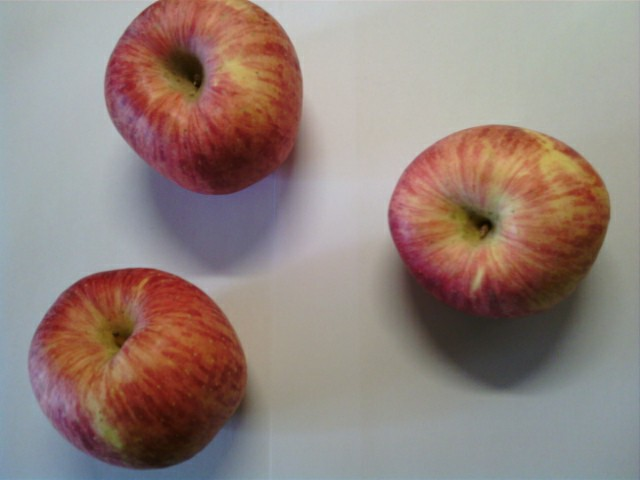normal_apple: (385, 124, 615, 327), (28, 267, 247, 471), (105, 1, 303, 197)
